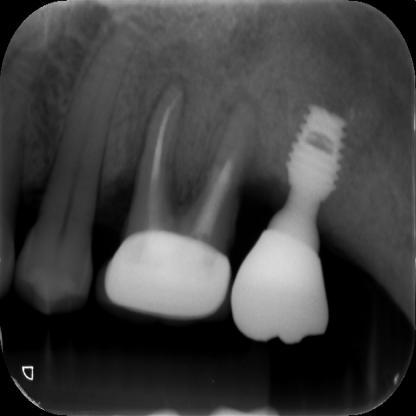Bicon: (261, 95, 360, 260)
